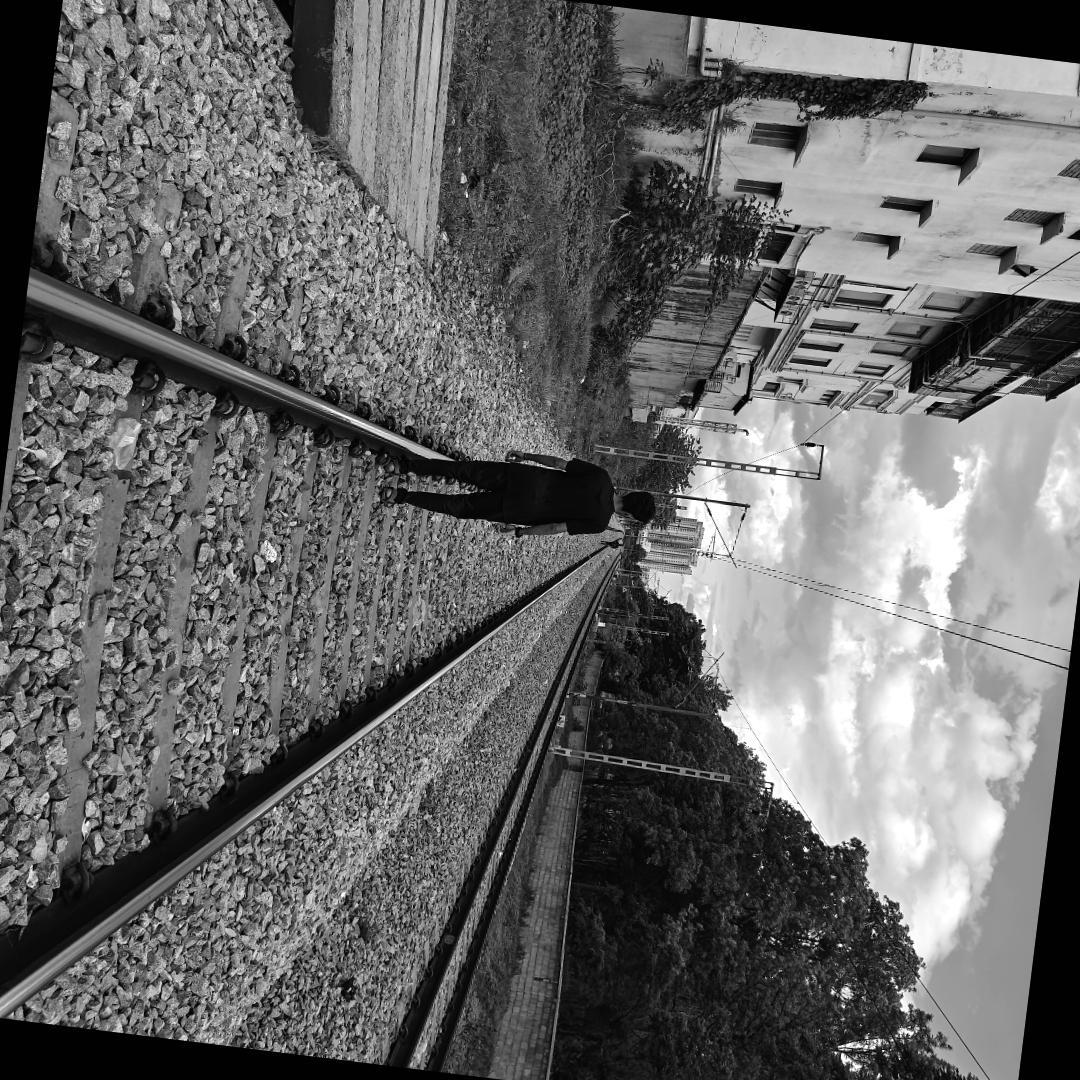standing: (384, 425, 665, 546)
